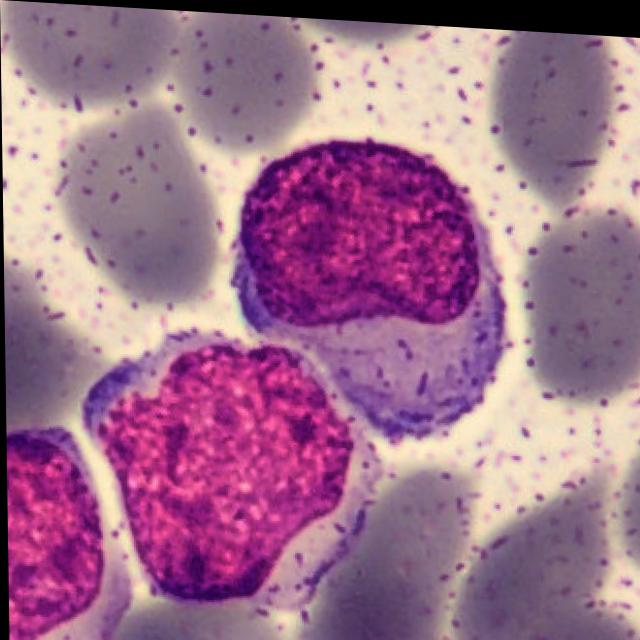Mieloblasto: (82, 330, 385, 611), (228, 133, 504, 434), (5, 427, 131, 640)
